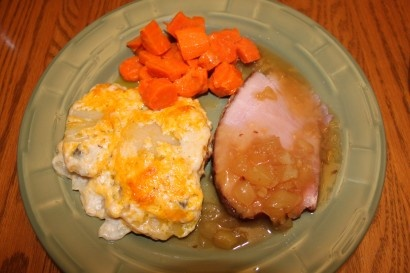background: (33, 5, 213, 103)
